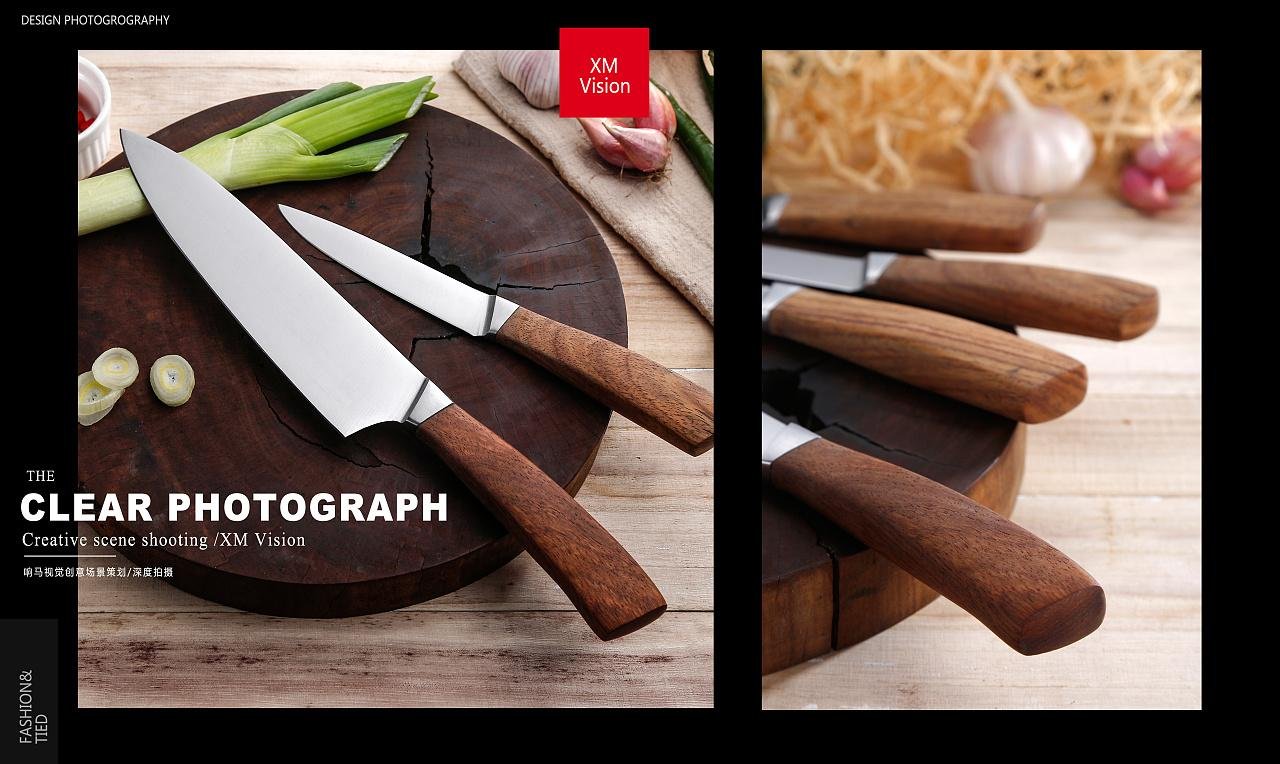knife: (99, 120, 707, 683)
